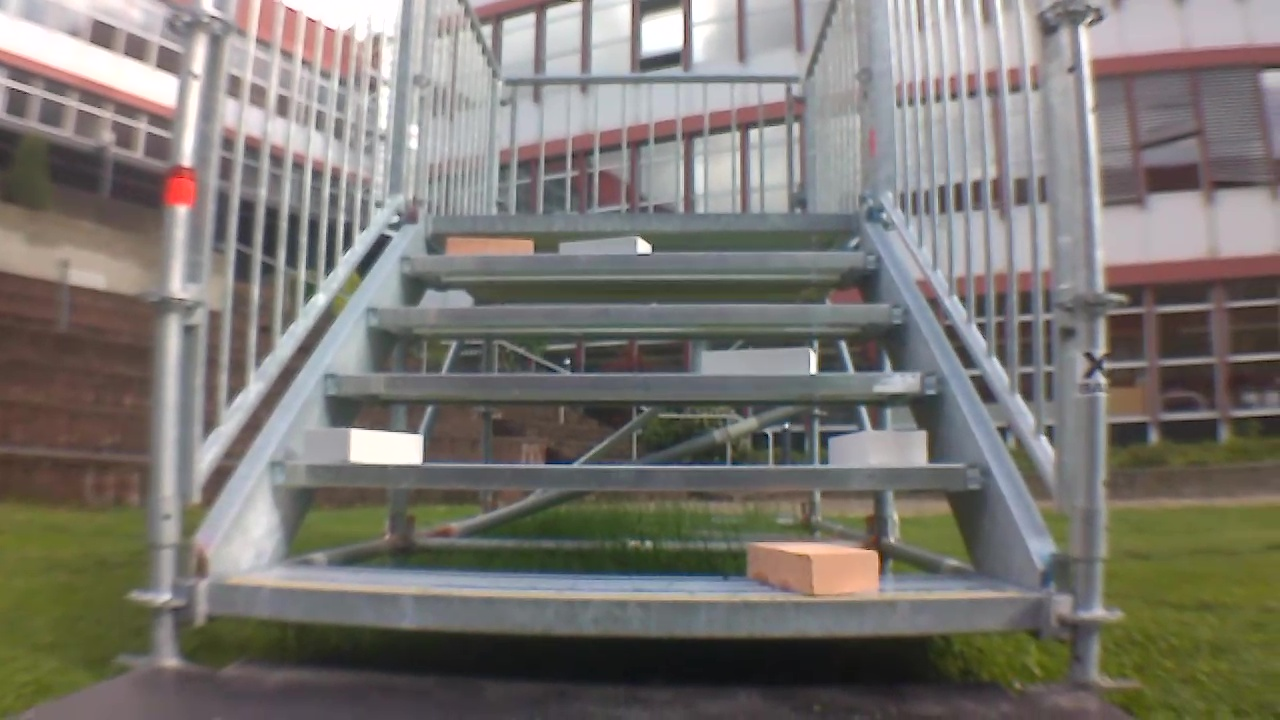brick: (746, 541, 878, 594), (303, 427, 423, 463), (827, 431, 927, 465), (702, 347, 816, 375), (559, 237, 650, 254), (447, 237, 532, 255)
edge: (206, 582, 1038, 636), (272, 463, 986, 491), (325, 372, 943, 397), (367, 303, 911, 325), (400, 252, 880, 270), (427, 214, 861, 232)
stairs: (131, 3, 1126, 681)
steps: (199, 207, 1044, 643)
